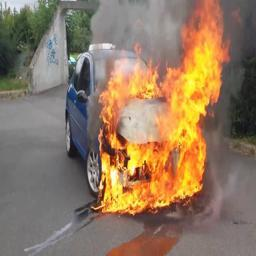fire: (94, 1, 231, 216)
